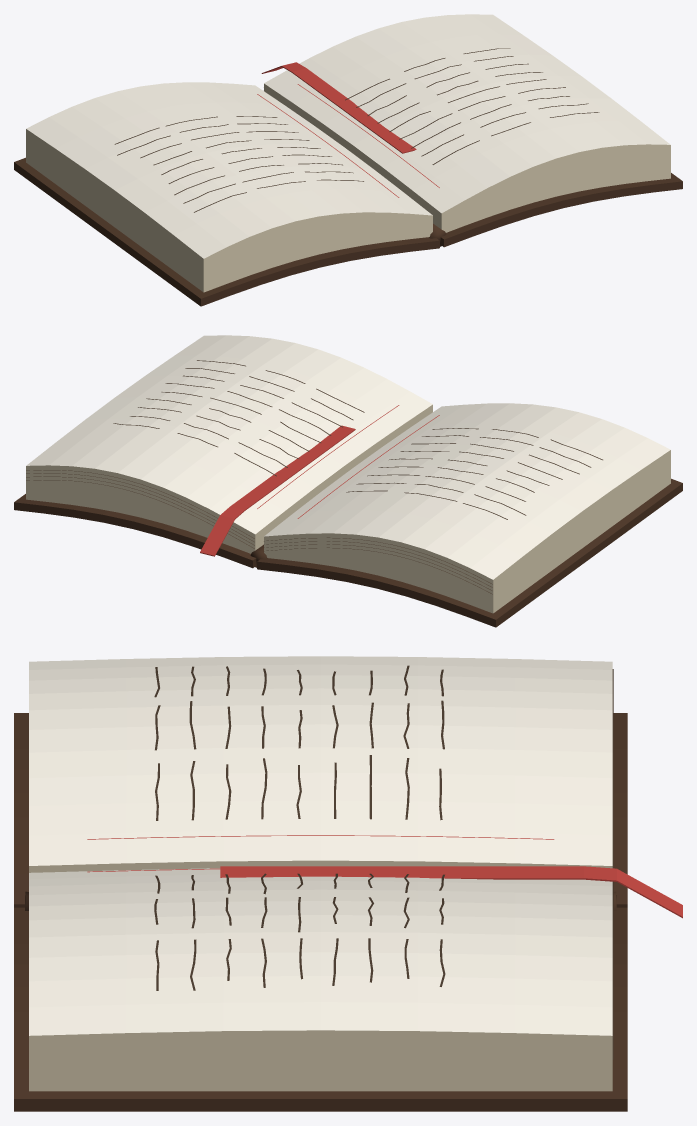
The model's file is Exhibit_2_ledger.fbx.
3 renders of one model, top to bottom at view 1: azimuth 30°, elevation 25°; view 2: azimuth 150°, elevation 25°; view 3: azimuth 270°, elevation 25°, orthographic. The views are drawn at different scales.
Parts seen in each view (by area): view 1: Exhibit_2_ledger; view 2: Exhibit_2_ledger; view 3: Exhibit_2_ledger.
Part boxes in pixels (left/top/right/bottom): Exhibit_2_ledger: left=14, top=14, right=682, bottom=306; Exhibit_2_ledger: left=14, top=335, right=682, bottom=627; Exhibit_2_ledger: left=14, top=656, right=682, bottom=1111.
Bounding box in the file's own units: 0.454 × 0.3325 × 0.0598.
